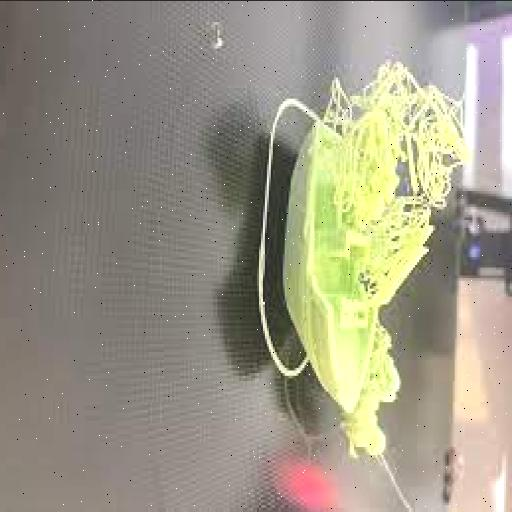spaghetti: (320, 60, 468, 314), (334, 324, 422, 462)
